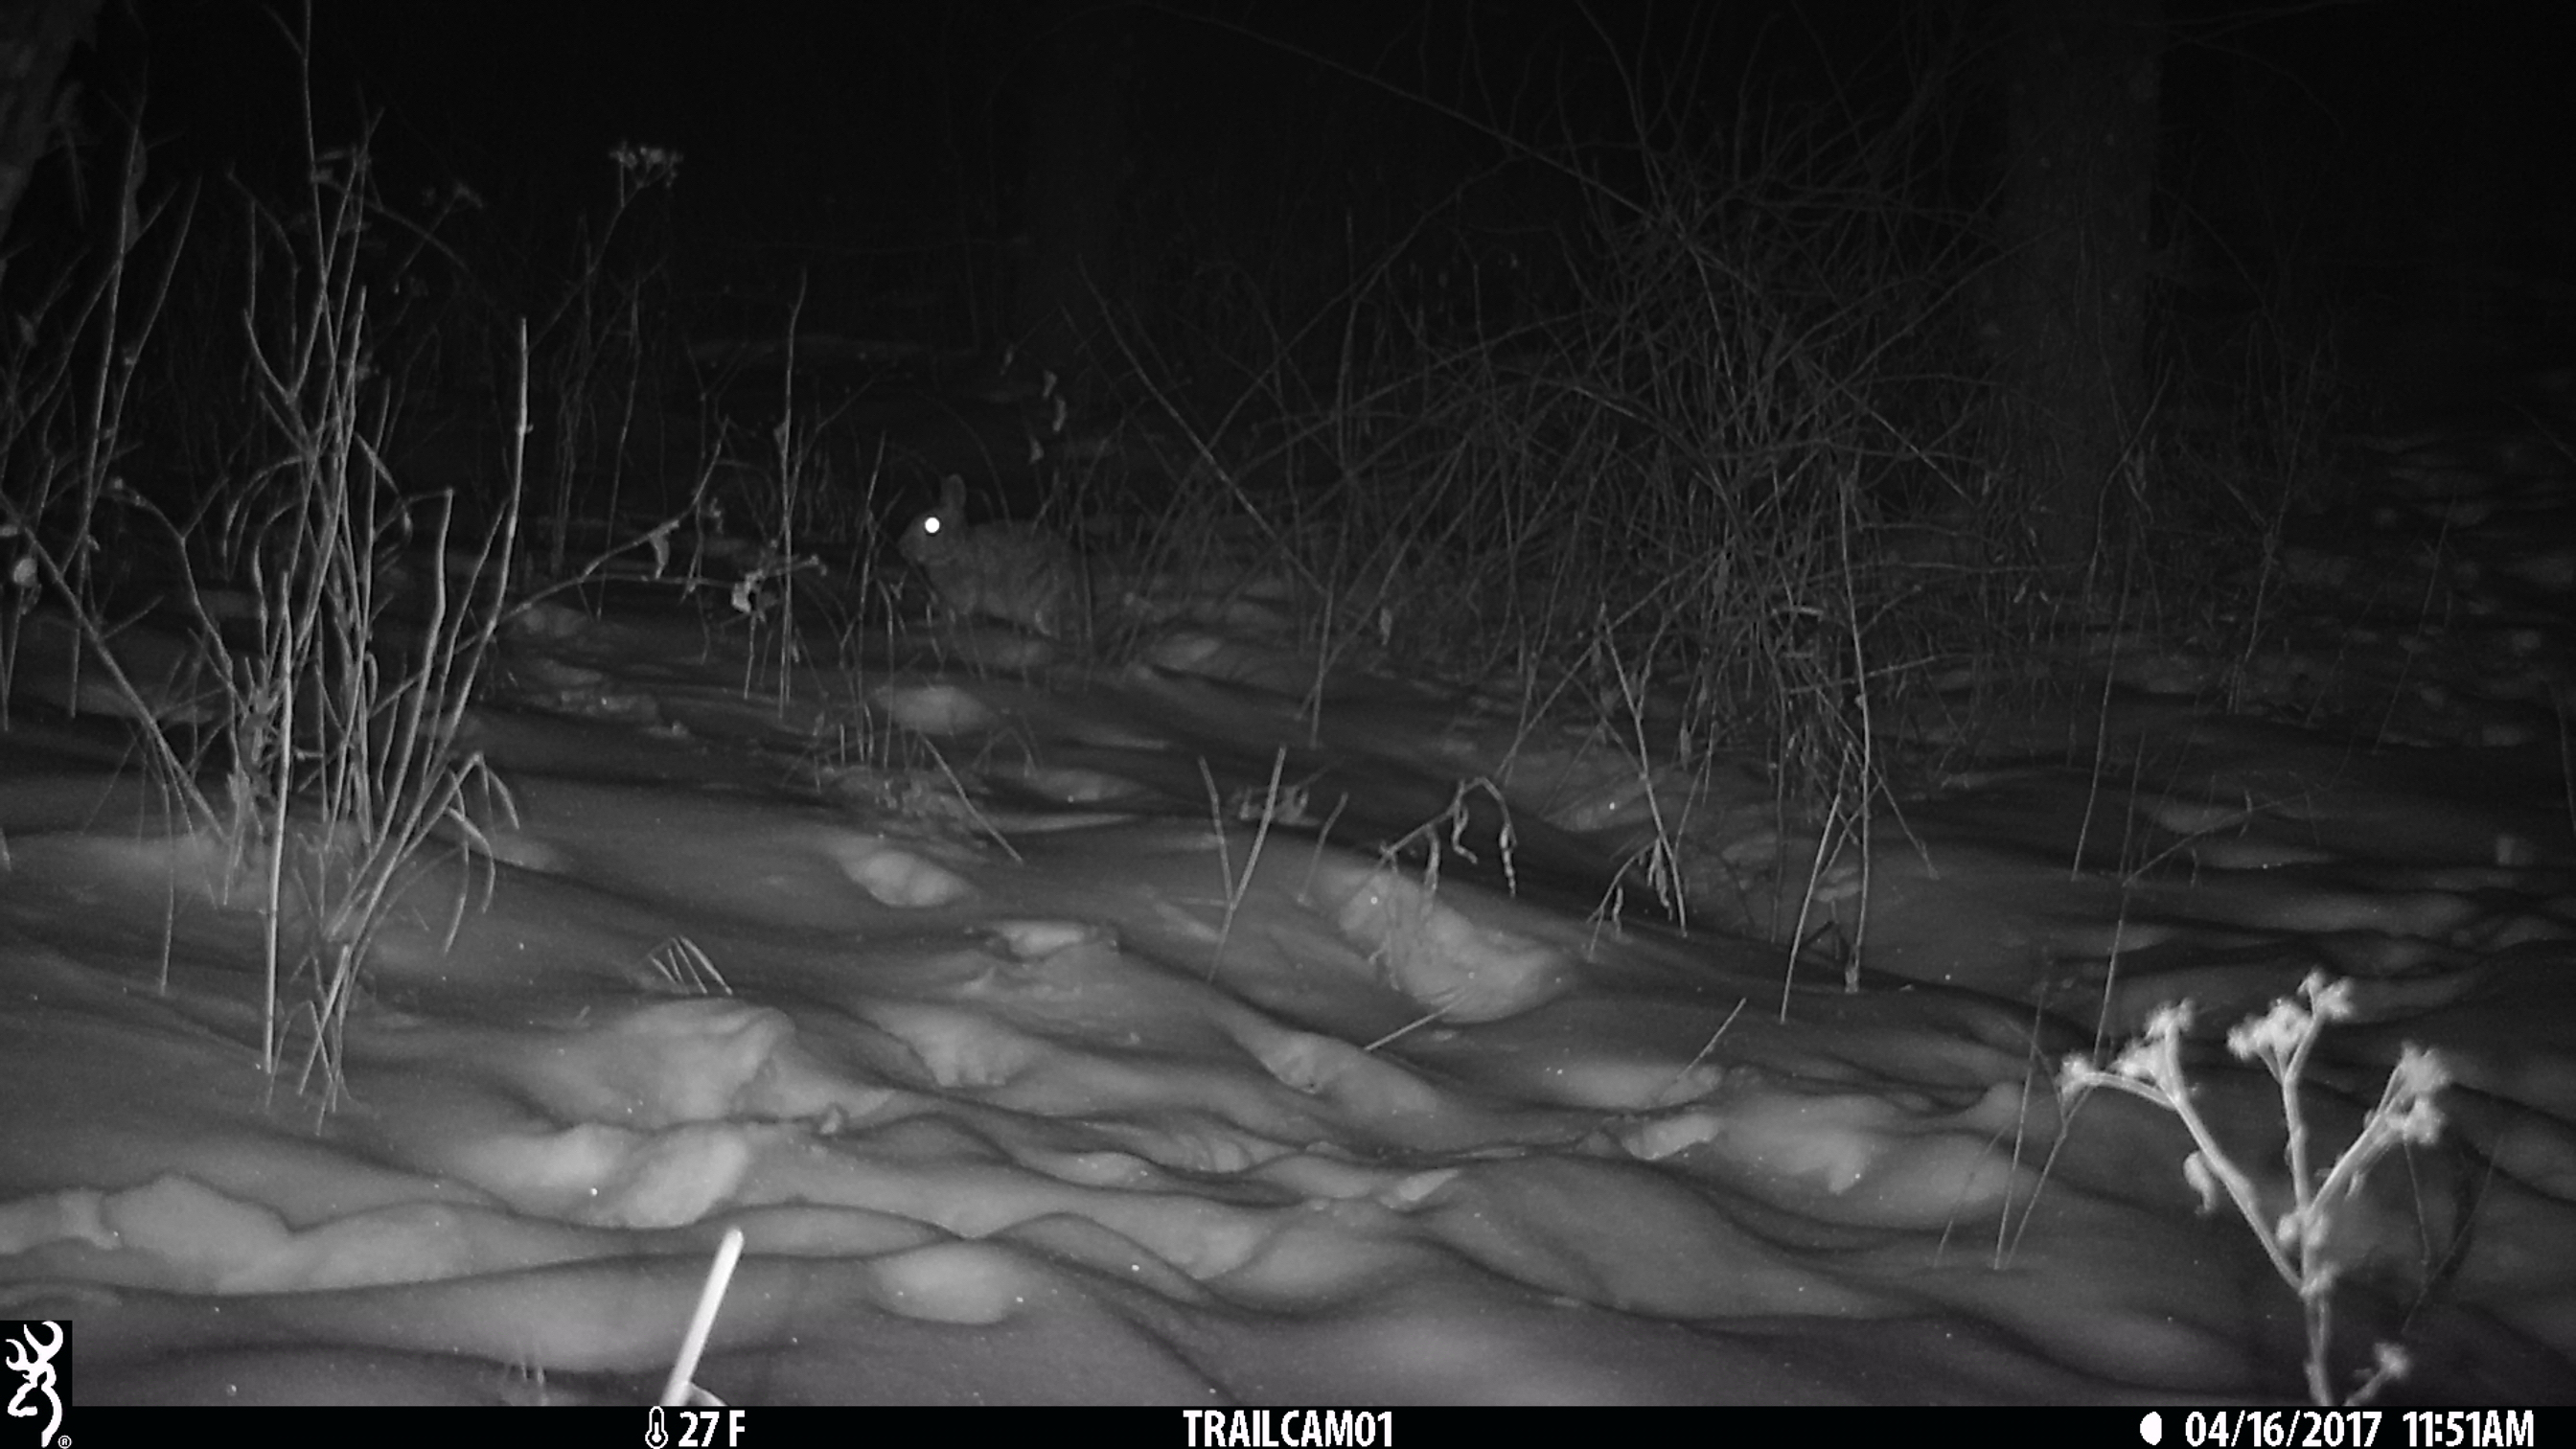Rabbit: (893, 474, 1085, 635)
